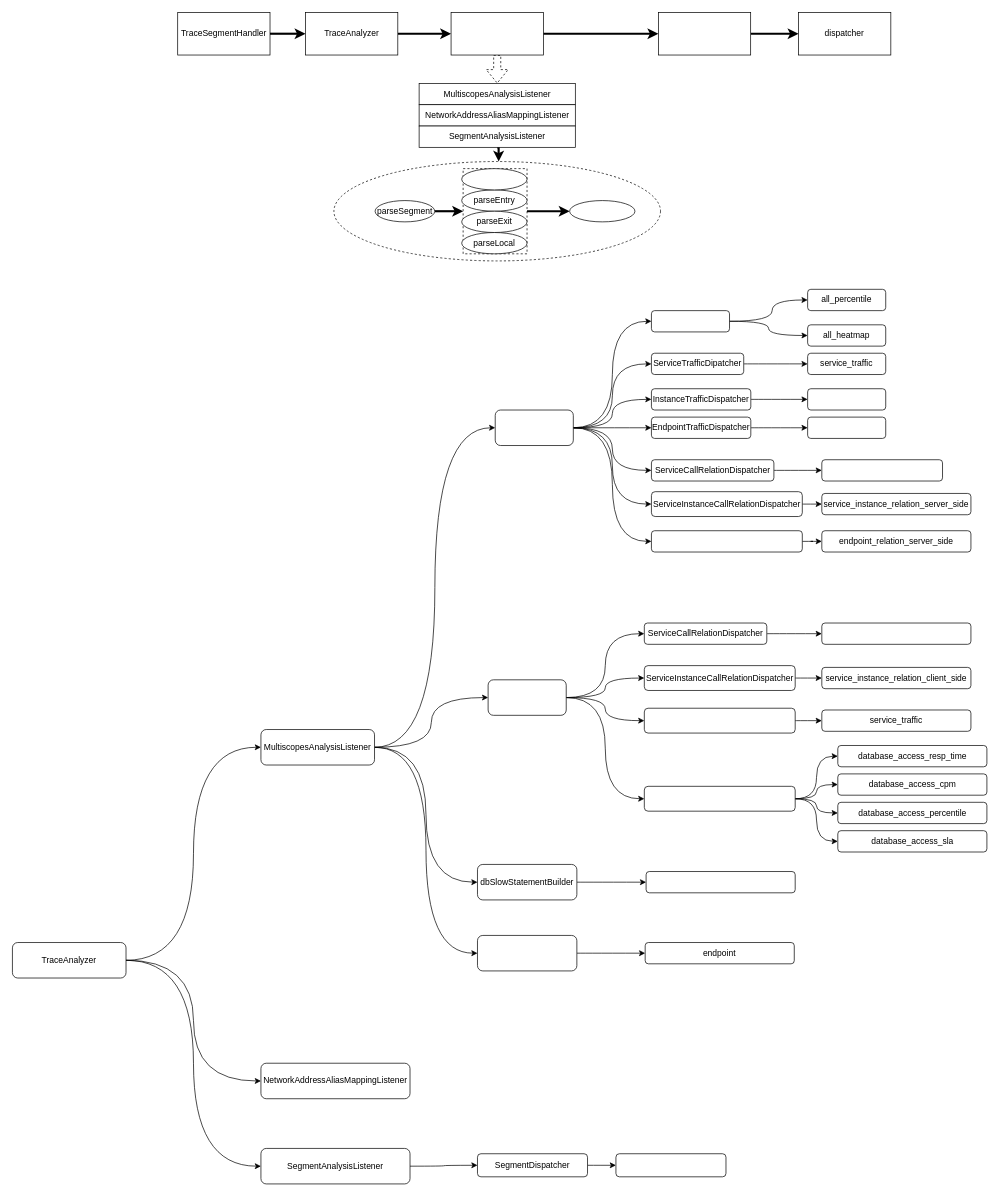
This 1000x1196 diagram has some shape labels left out. Each missing label, with the centre of its shape:
AllDispatcher: the point at 690,321
AnalysisListener: the point at 496,33
build: the point at 602,211
DatabaseAccessDispatcher: the point at 719,798
endpoint_traffic: the point at 846,427
EndpointCallRelationDispatcher: the point at 726,541
entrySourceBuilder: the point at 534,427
exitSourceBuilder: the point at 526,697
instance_traffic: the point at 846,399
logicEndpointBuilder: the point at 527,953
parseFirst: the point at 494,179
segment: the point at 670,1165
service_relation_client_side: the point at 896,633
service_relation_server_side: the point at 882,470
ServiceMetaDispatcher: the point at 719,720
sourceReceiver: the point at 704,33
top_n_database_statement: the point at 720,882
